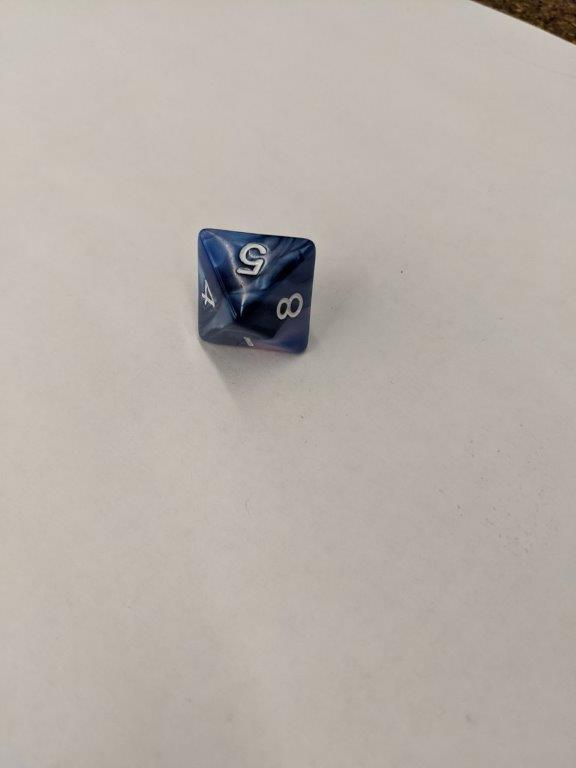d8-5: (195, 226, 318, 359)
